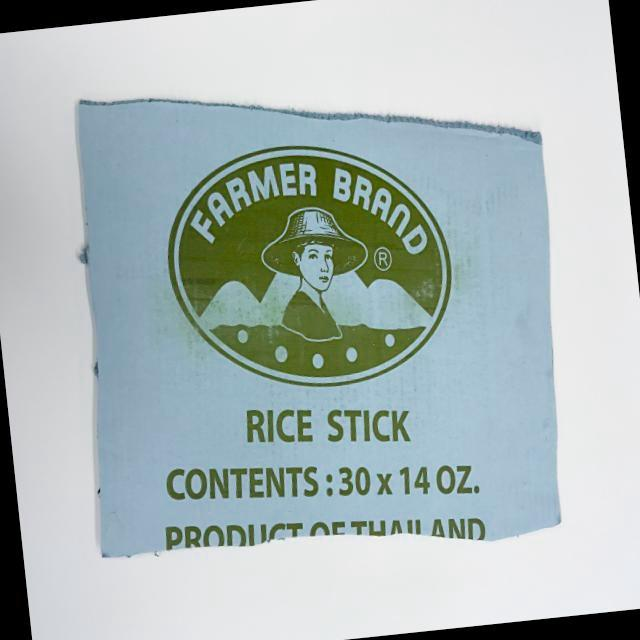cardboard: (36, 44, 591, 594)
